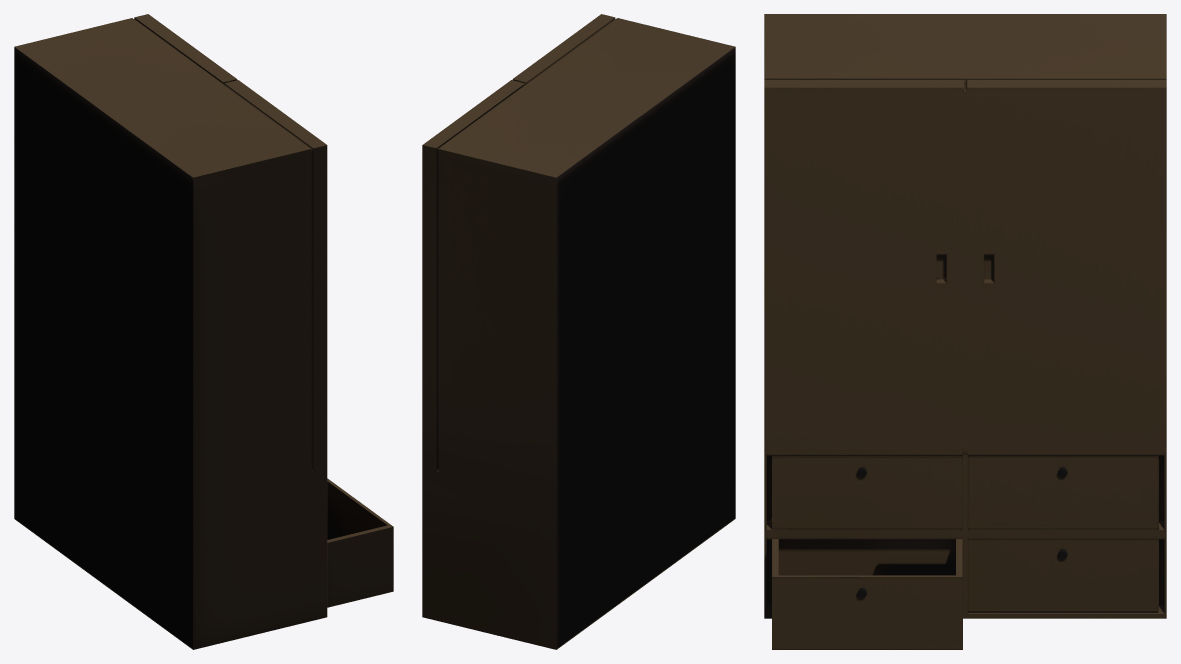
Rendered from wardrobe.gltf.
The picture shows the model from 3 angles, left to right: view 1: azimuth 30°, elevation 25°; view 2: azimuth 150°, elevation 25°; view 3: azimuth 270°, elevation 25°; orthographic projection. The views are drawn at different scales.
Visible parts, largest first — view 1: Wardrobe; view 2: Wardrobe; view 3: Wardrobe.
Part boxes in pixels (x1,y1,x2,y2): Wardrobe: (14, 14, 393, 649); Wardrobe: (422, 14, 735, 649); Wardrobe: (764, 14, 1166, 649).
Bounding box in the file's own units: 0.3737 × 0.8092 × 0.5562.
Materials: 2 (1 with a texture image).
